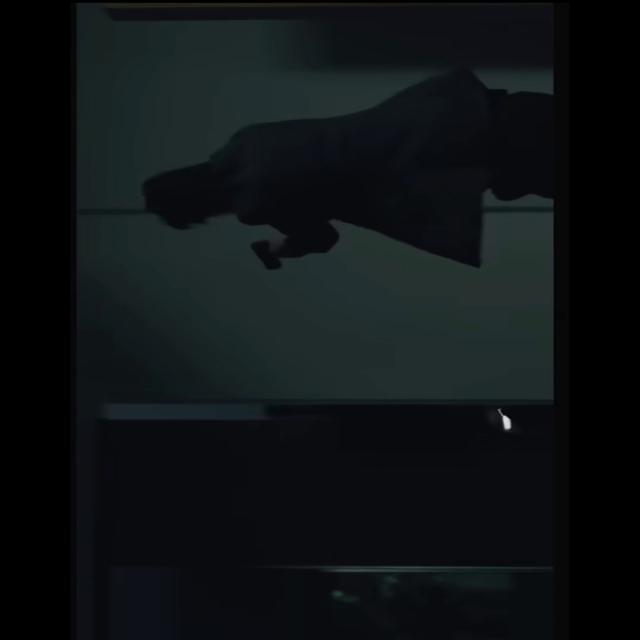weapons: (230, 234, 320, 276)
